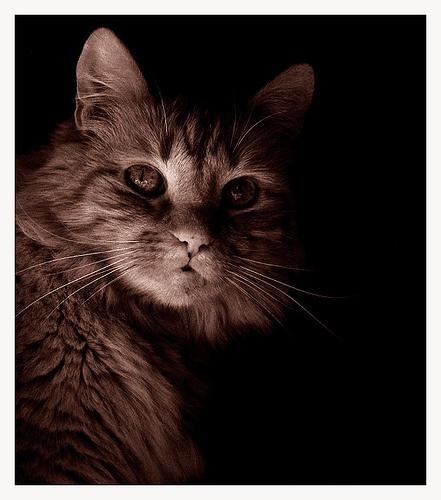cat: (16, 29, 344, 485)
